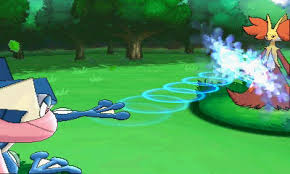greninja: (2, 51, 132, 174)
